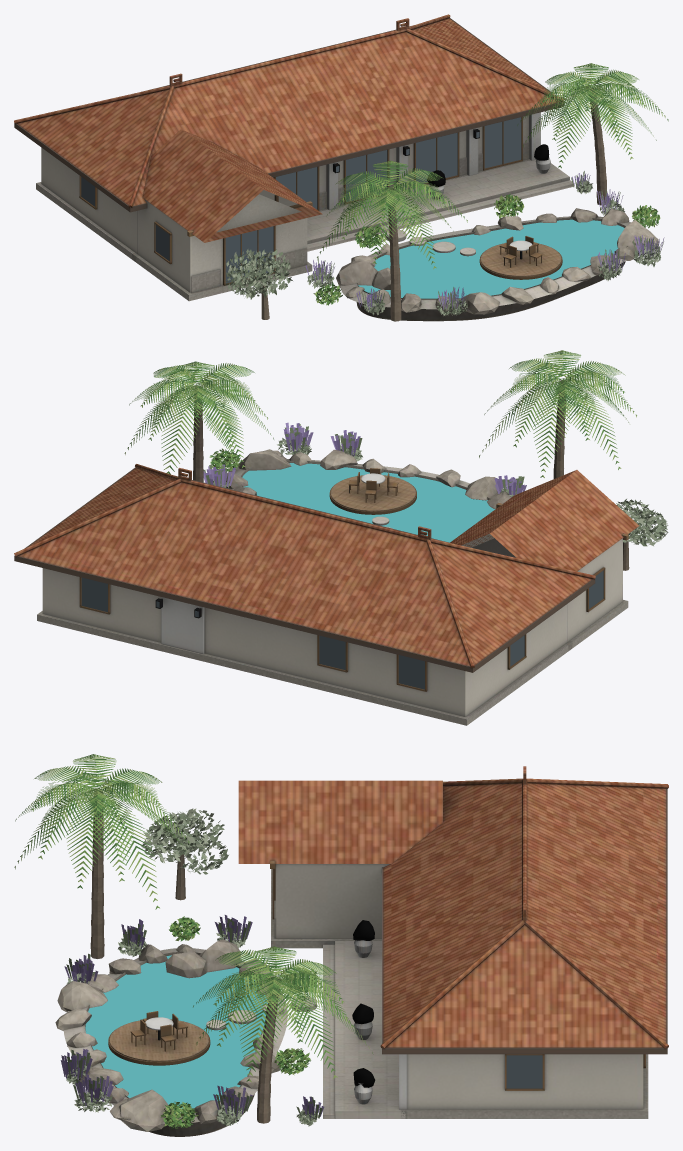
The model's file is sanctuary.gltf.
The picture shows the model from 3 angles, top to bottom: view 1: azimuth 30°, elevation 25°; view 2: azimuth 150°, elevation 25°; view 3: azimuth 270°, elevation 25°; orthographic projection. The views are drawn at different scales.
Visible parts, largest first — view 1: SanctuaryVilla, SanctuaryVilla_Foliage; view 2: SanctuaryVilla, SanctuaryVilla_Foliage; view 3: SanctuaryVilla, SanctuaryVilla_Foliage.
Boxes of the visible parts, <box> form: SanctuaryVilla: <box>14,14,658,321</box>; SanctuaryVilla_Foliage: <box>225,63,668,315</box>; SanctuaryVilla: <box>14,380,639,725</box>; SanctuaryVilla_Foliage: <box>124,350,668,546</box>; SanctuaryVilla: <box>55,766,668,1136</box>; SanctuaryVilla_Foliage: <box>14,754,375,1129</box>.
Bounding box in the file's own units: 28.54 × 9.47 × 27.6.
6 materials, 1 textured.
